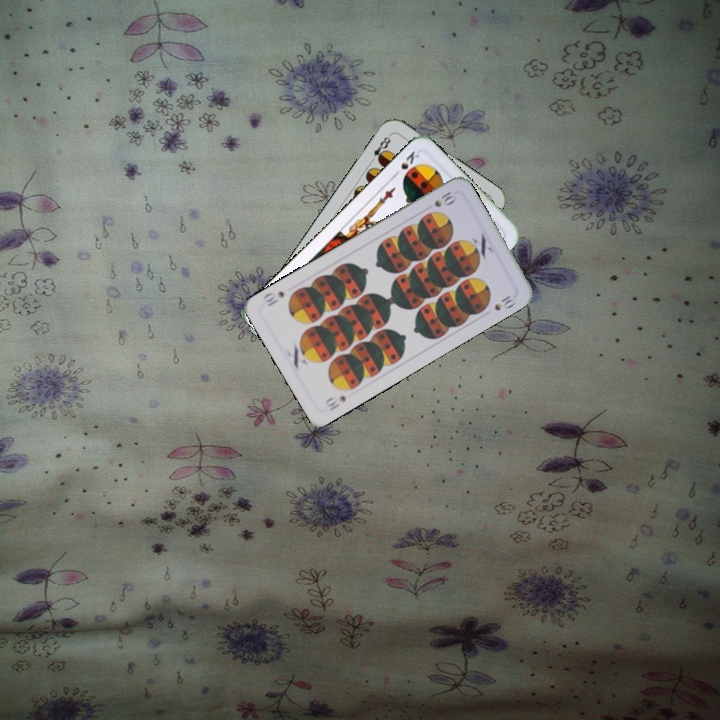E8: (366, 130, 394, 166)
S10: (320, 391, 349, 414), (430, 187, 457, 210)
SK: (389, 147, 422, 180)
